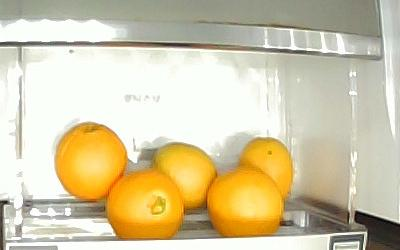orange: (54, 122, 127, 200), (105, 170, 184, 240), (206, 166, 283, 235), (149, 141, 218, 209), (236, 137, 294, 204)
